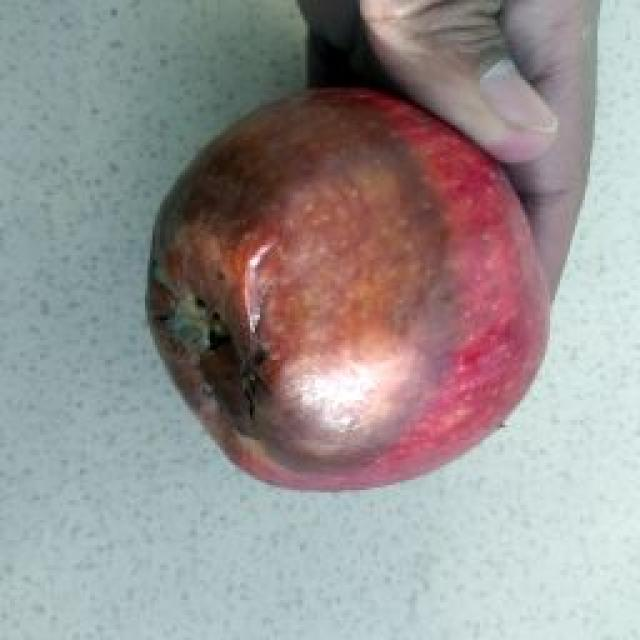Bad_Apple: (148, 89, 549, 488)
